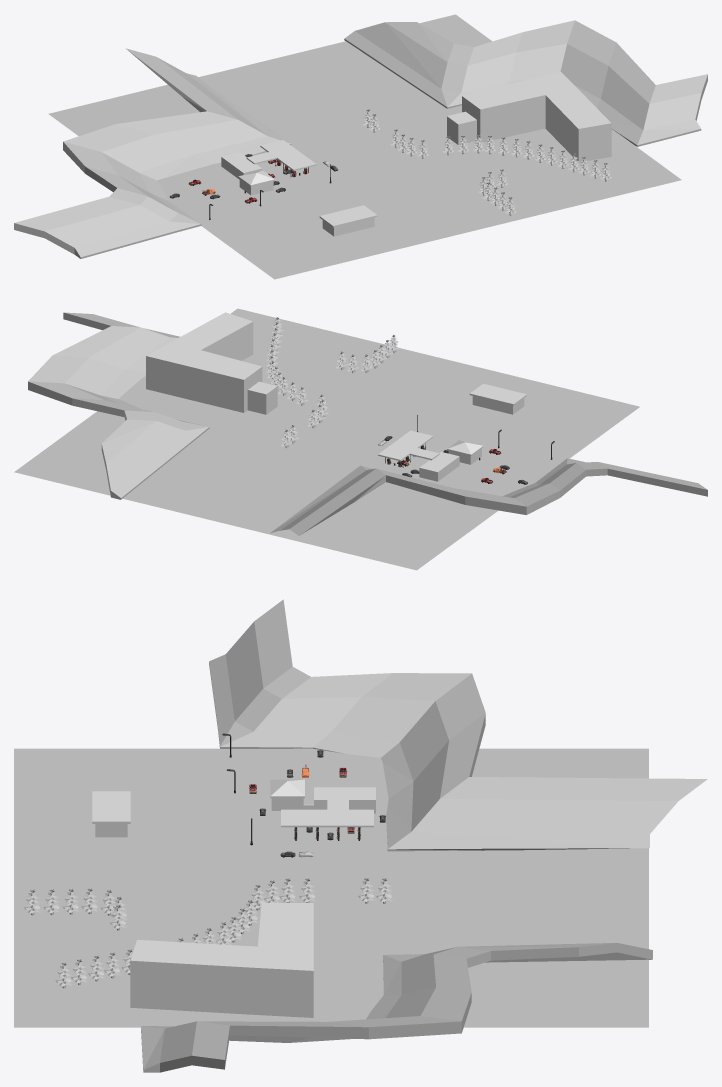
The model's file is Gas Station Arena Vena Cava.fbx.
3 renders of one model, top to bottom at view 1: azimuth 30°, elevation 25°; view 2: azimuth 150°, elevation 25°; view 3: azimuth 270°, elevation 25°, orthographic. The views are drawn at different scales.
Parts seen in each view (by area): view 1: Sidewalk, Cube.012, Cube.006, Cube.001, Cube.011, Cube.003, Cube.002, Cube.004; view 2: Sidewalk, Cube.012, Cube.006, Cube.001, Cube.011, Cube.003, Cube.002, Cube.004; view 3: Sidewalk, Cube.006, Cube.012, Cube.001, Cube.003, Cube.011, Cube.004.
Part boxes in pixels (x1,y1,x2,y2): Sidewalk: (48, 14, 681, 279); Cube.012: (344, 20, 707, 146); Cube.006: (14, 48, 291, 258); Cube.001: (462, 72, 611, 162); Cube.011: (319, 205, 377, 236); Cube.003: (246, 140, 316, 170); Cube.002: (447, 111, 476, 144); Cube.004: (221, 152, 262, 179); Sidewalk: (14, 308, 639, 570); Cube.012: (28, 312, 209, 499); Cube.006: (270, 458, 707, 535); Cube.001: (146, 312, 262, 412); Cube.011: (469, 383, 526, 414); Cube.003: (378, 430, 439, 461); Cube.002: (247, 381, 277, 414); Cube.004: (419, 452, 459, 481); Sidewalk: (14, 748, 648, 1027); Cube.006: (209, 599, 707, 851); Cube.012: (141, 942, 652, 1072); Cube.001: (130, 903, 313, 1017); Cube.003: (281, 794, 373, 827); Cube.011: (92, 791, 130, 837); Cube.004: (314, 787, 375, 813).
Bounding box in the file's own units: 36082 × 1873 × 22969.
